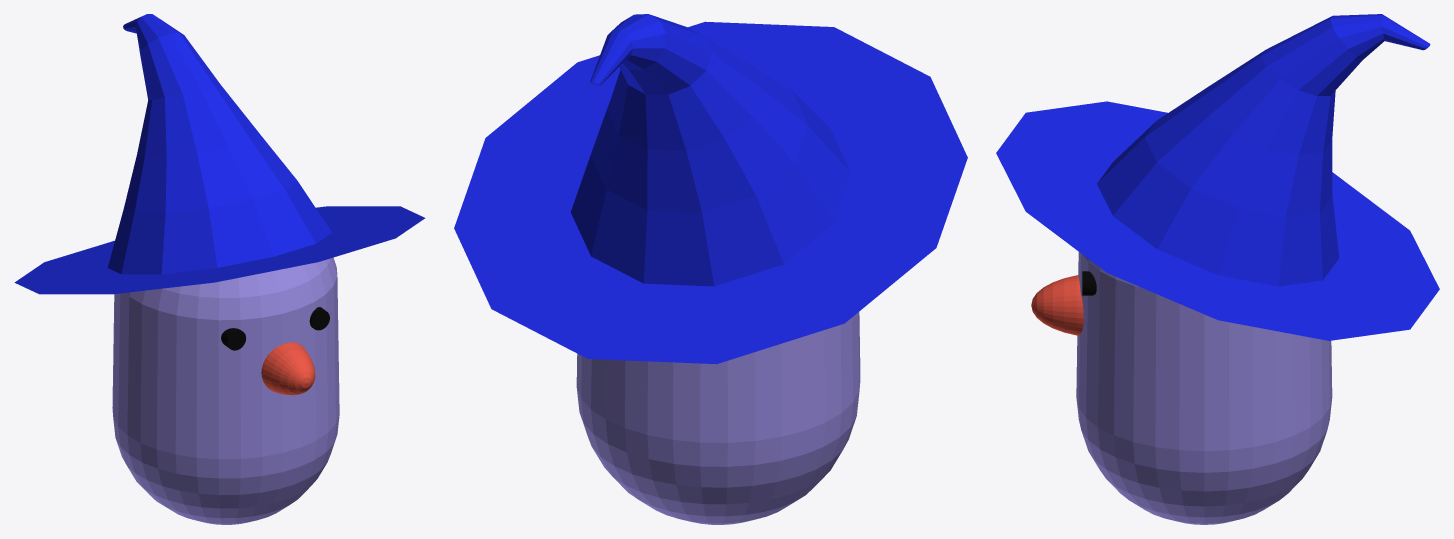
The model's file is MagusMerged.fbx.
3 views of the same model, side by side, from view 1: azimuth 30°, elevation 25°; view 2: azimuth 150°, elevation 25°; view 3: azimuth 270°, elevation 25° (orthographic). The views are drawn at different scales.
Visible parts, largest first — view 1: MagusMerged; view 2: MagusMerged; view 3: MagusMerged.
Part boxes in pixels (x1=…): MagusMerged: x1=14, y1=14, x2=425, y2=524; MagusMerged: x1=454, y1=14, x2=967, y2=524; MagusMerged: x1=996, y1=14, x2=1439, y2=524.
Bounding box in the file's own units: 366 × 429 × 347.
